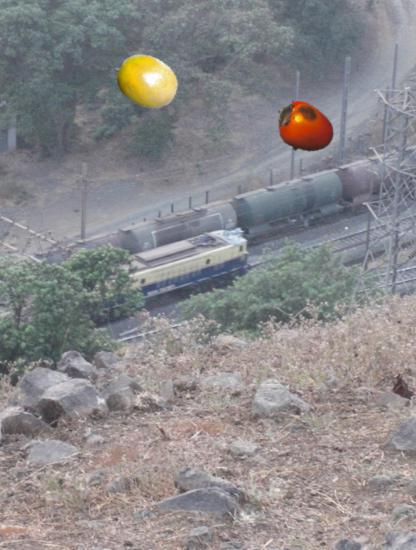Kaki: (272, 97, 336, 161)
Maracuja: (113, 48, 180, 115)
